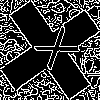X: (25, 25, 81, 78)
